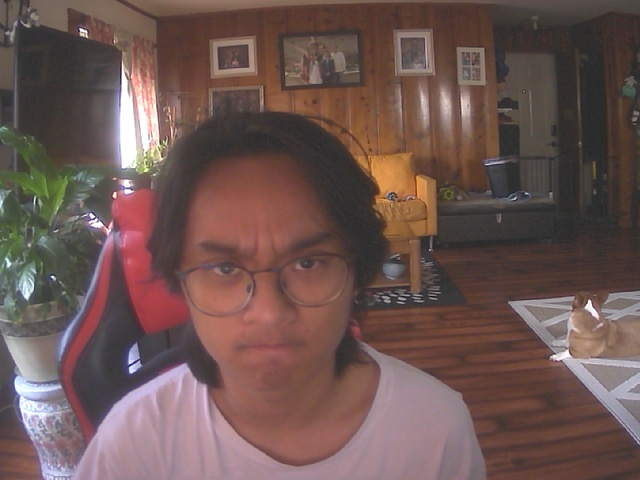anger: (171, 125, 372, 404)
